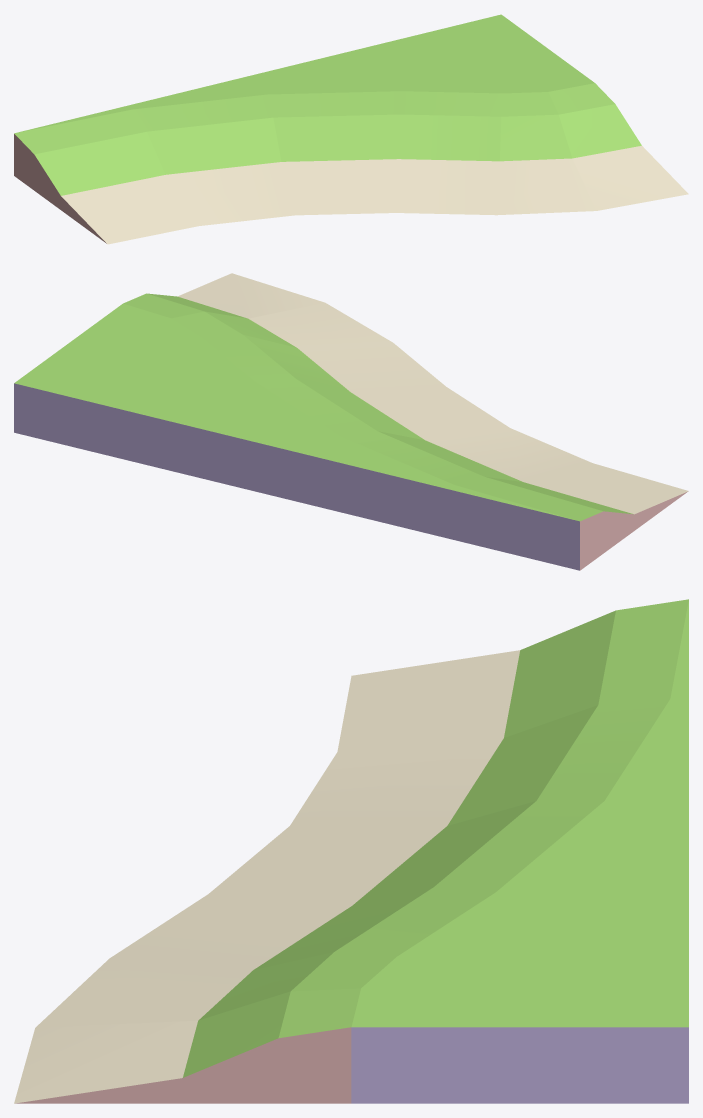
File: Path_Terrain_Basic_Esse_2x3.fbx
3 views of the same model, one above another, from view 1: azimuth 30°, elevation 25°; view 2: azimuth 150°, elevation 25°; view 3: azimuth 270°, elevation 25° (orthographic). The views are drawn at different scales.
Visible parts, largest first — view 1: Path_Terrain_Basic_Esse_2x3; view 2: Path_Terrain_Basic_Esse_2x3; view 3: Path_Terrain_Basic_Esse_2x3.
Boxes of the visible parts, <box> form: Path_Terrain_Basic_Esse_2x3: <box>14,14,688,244</box>; Path_Terrain_Basic_Esse_2x3: <box>14,273,688,570</box>; Path_Terrain_Basic_Esse_2x3: <box>14,599,688,1103</box>.
Size of the model in its own units: 300 by 25 by 200.
